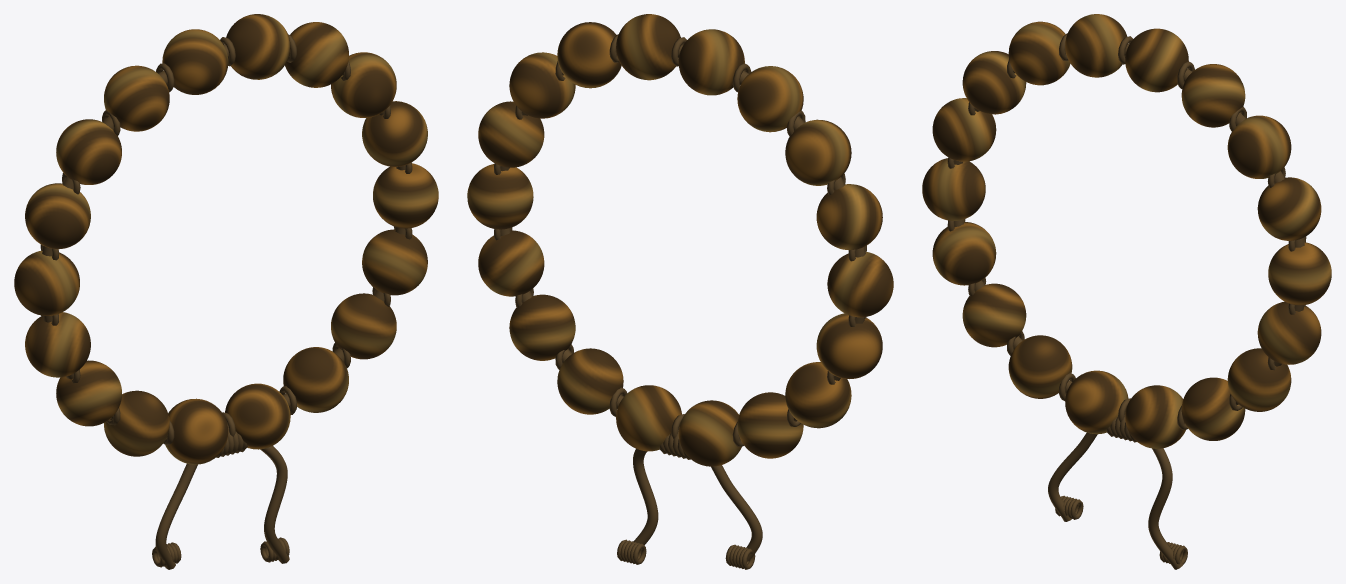
The model's file is tiger-eye.glb.
3 views of the same model, side by side, from view 1: azimuth 30°, elevation 25°; view 2: azimuth 150°, elevation 25°; view 3: azimuth 330°, elevation 25° (orthographic). The views are drawn at different scales.
Parts seen in each view (by area): view 1: tiger-eye; view 2: tiger-eye; view 3: tiger-eye.
Boxes of the visible parts, x1,y1,x2,y2 form: tiger-eye: (14,14,438,569); tiger-eye: (467,14,893,569); tiger-eye: (922,14,1331,569).
Size of the model in its own units: 2.23 by 2.81 by 0.306.
